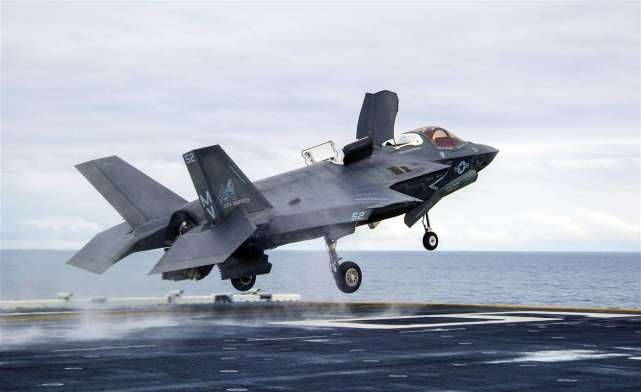airplane: (55, 76, 502, 304)
